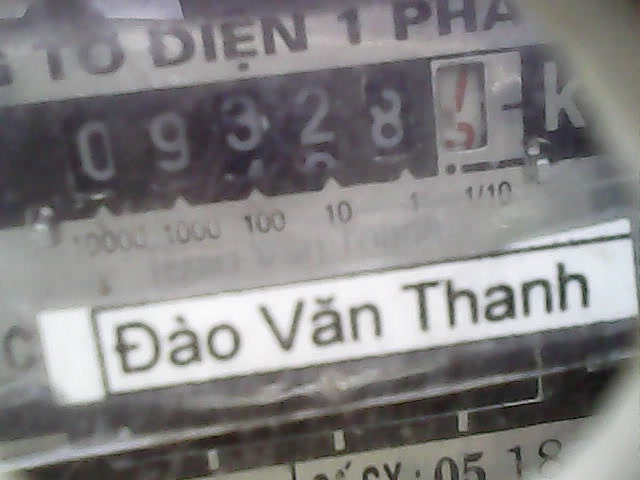phy_plate: (39, 42, 534, 199)
